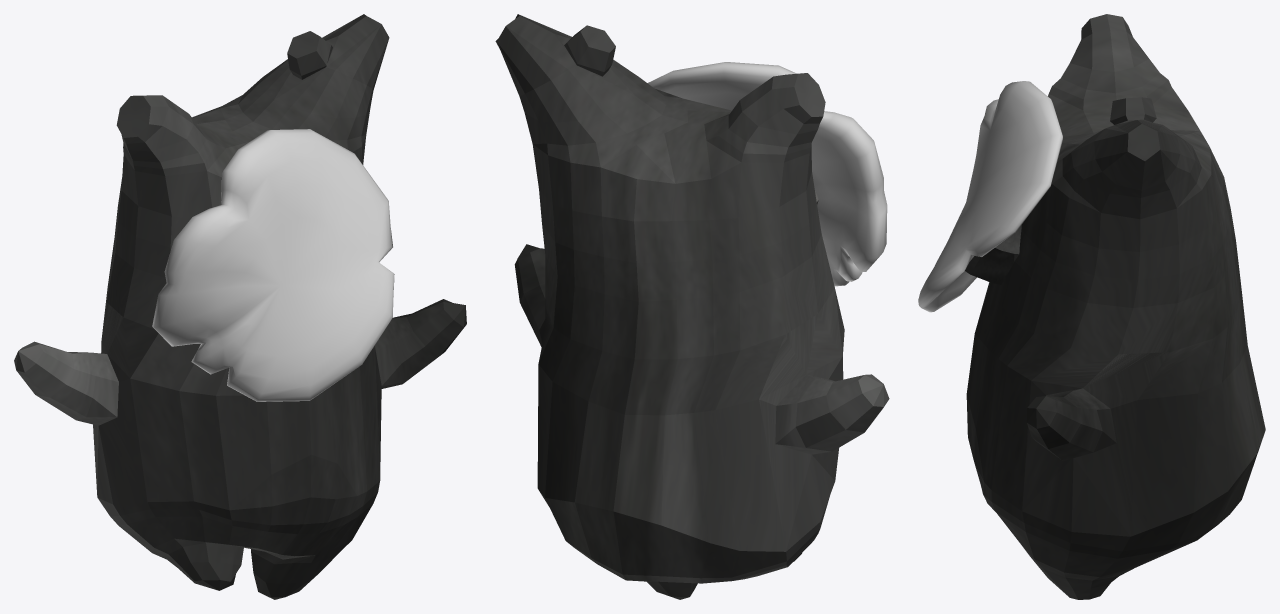
The model's file is frame_0011.obj.
3 renders of one model, left to right at view 1: azimuth 30°, elevation 25°; view 2: azimuth 150°, elevation 25°; view 3: azimuth 270°, elevation 25°, orthographic. The views are drawn at different scales.
Visible parts, largest first — view 1: korok, leaf; view 2: korok, leaf; view 3: korok, leaf, nose.
Boxes of the visible parts, x1,y1,x2,y2 form: korok: [14, 14, 466, 599]; leaf: [152, 129, 394, 401]; korok: [495, 14, 889, 599]; leaf: [647, 62, 887, 286]; korok: [966, 14, 1265, 599]; leaf: [918, 81, 1062, 312]; nose: [965, 224, 1021, 284].
Size of the model in its own units: 1.73 by 2.24 by 1.32.
